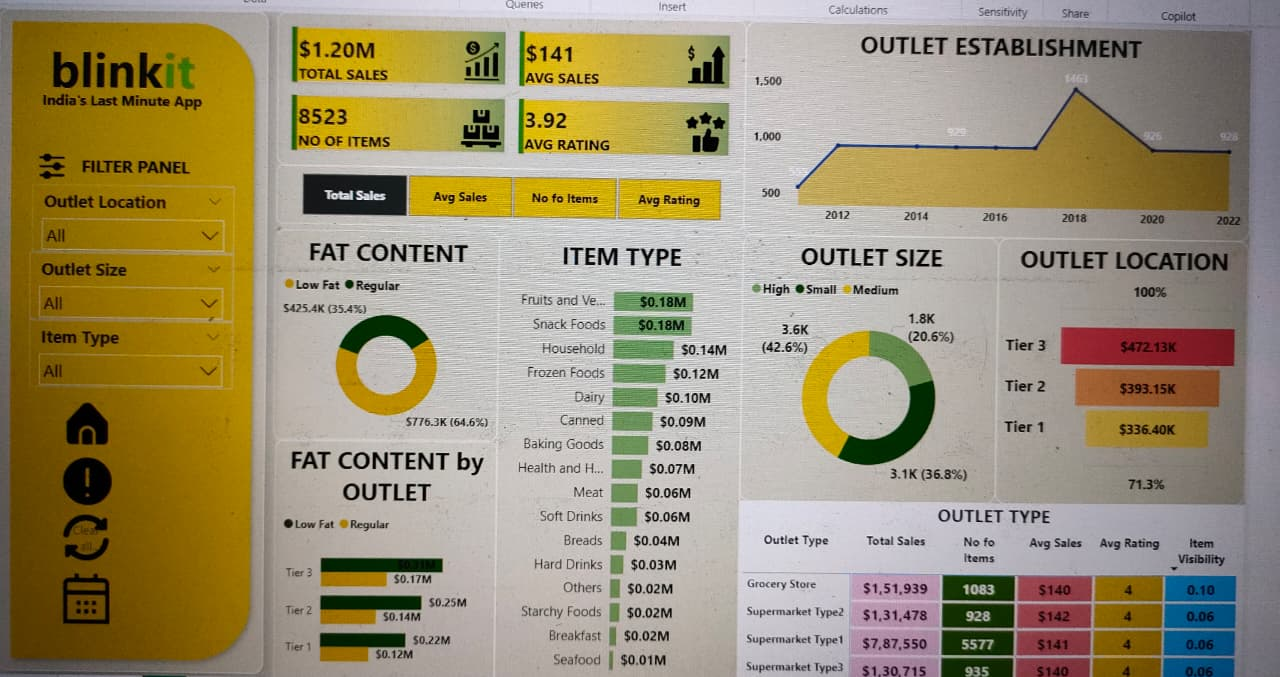

Layout of this report page (visuals, bound fields, positions):
{"tool":"powerbi","page":{"name":"Page 1","canvas":[1400,750],"ordinal":0},"visuals":[{"type":"donutChart","title":"OUTLET SIZE","fields":{"Category":["BlinkIT Grocery Data.Outlet Size"],"Y":["CountNonNull(BlinkIT Grocery Data.Outlet Type)"]},"box":[826.2,239.3,287.9,299.1],"z":0},{"type":"lineChart","title":"OUTLET ESTABLISHMENT","fields":{"Category":["BlinkIT Grocery Data.Outlet Establishment Year"],"Y":["CountNonNull(BlinkIT Grocery Data.Outlet Type)"]},"box":[826.5,0,573.5,239.4],"z":1000},{"type":"donutChart","title":"FAT CONTENT","fields":{"Y":["BlinkIT Grocery Data.Total Sales"],"Category":["BlinkIT Grocery Data.Item Fat Content"]},"box":[306.7,240.2,248,235.3],"z":2000},{"type":"clusteredBarChart","title":"FAT CONTENT by OUTLET","fields":{"Y":["BlinkIT Grocery Data.Total Sales"],"Category":["BlinkIT Grocery Data.Outlet Location Type"],"Series":["BlinkIT Grocery Data.Item Fat Content"]},"box":[308.6,472.7,245.4,277],"z":3000},{"type":"clusteredBarChart","title":"ITEM TYPE","fields":{"Y":["BlinkIT Grocery Data.Total Sales"],"Category":["BlinkIT Grocery Data.Item Type"]},"box":[554,240.9,272.5,508.8],"z":4000},{"type":"shape","box":[0,0,296.6,736.1],"z":5000},{"type":"textbox","box":[21.1,84.3,230.3,36.1],"z":6000},{"type":"slicer","fields":{"Values":["Metrics.Metrics"]},"box":[307.1,168.6,519.4,64.7],"z":7000},{"type":"cardVisual","fields":{"Data":["BlinkIT Grocery Data.Total Sales","BlinkIT Grocery Data.Avg Sales","BlinkIT Grocery Data.No fo Items","BlinkIT Grocery Data.Avg Rating"]},"box":[307.1,0,519.4,168.6],"z":8000},{"type":"funnel","title":"OUTLET LOCATION","fields":{"Y":["Sum(BlinkIT Grocery Data.Sales)"],"Category":["BlinkIT Grocery Data.Outlet Location Type"]},"box":[1114,239.3,286,299.1],"z":9000},{"type":"pivotTable","title":"OUTLET TYPE","fields":{"Rows":["BlinkIT Grocery Data.Outlet Type"],"Values":["BlinkIT Grocery Data.Total Sales","BlinkIT Grocery Data.No fo Items","BlinkIT Grocery Data.Avg Sales","BlinkIT Grocery Data.Avg Rating","Avg(BlinkIT Grocery Data.Item Visibility)"]},"box":[826.5,537.4,573.5,212.3],"z":10000},{"type":"slicer","fields":{"Values":["BlinkIT Grocery Data.Outlet Location Type"]},"box":[37.3,194.1,223.5,74.5],"z":11000},{"type":"slicer","fields":{"Values":["BlinkIT Grocery Data.Outlet Size"]},"box":[35.3,268.6,225.5,74.5],"z":12000},{"type":"slicer","fields":{"Values":["BlinkIT Grocery Data.Item Type"]},"box":[35.3,343.1,225.5,74.5],"z":13000},{"type":"textbox","box":[22.6,24.1,261.9,85.8],"z":14000},{"type":"image","box":[36.1,155.1,46.7,37.6],"z":15000},{"type":"textbox","box":[82.8,155.1,156.6,36.1],"z":16000},{"type":"actionButton","box":[74.3,431.4,58.6,54.3],"z":17000},{"type":"actionButton","box":[74.3,560,51.4,51.4],"z":18000},{"type":"actionButton","box":[74.3,625.7,51.4,55.7],"z":19000},{"type":"actionButton","box":[74.3,495.7,54.3,52.9],"z":20000}]}

Visuals, with their boxes on the page's 1400x750 design canvas (x1, y1, x2, y2). These are canvas units, not pixel positions in the 1280x677 screenshot, which may show the page scaled, cropped or inside an application window:
"OUTLET SIZE" donutChart: bbox(826, 239, 1114, 538)
"OUTLET ESTABLISHMENT" lineChart: bbox(826, 0, 1400, 239)
"FAT CONTENT" donutChart: bbox(307, 240, 555, 476)
"FAT CONTENT by OUTLET" clusteredBarChart: bbox(309, 473, 554, 750)
"ITEM TYPE" clusteredBarChart: bbox(554, 241, 826, 750)
shape: bbox(0, 0, 297, 736)
textbox: bbox(21, 84, 251, 120)
slicer - Metrics.Metrics: bbox(307, 169, 826, 233)
cardVisual - BlinkIT Grocery Data.Total Sales x BlinkIT Grocery Data.Avg Sales: bbox(307, 0, 826, 169)
"OUTLET LOCATION" funnel: bbox(1114, 239, 1400, 538)
"OUTLET TYPE" pivotTable: bbox(826, 537, 1400, 750)
slicer - BlinkIT Grocery Data.Outlet Location Type: bbox(37, 194, 261, 269)
slicer - BlinkIT Grocery Data.Outlet Size: bbox(35, 269, 261, 343)
slicer - BlinkIT Grocery Data.Item Type: bbox(35, 343, 261, 418)
textbox: bbox(23, 24, 284, 110)
image: bbox(36, 155, 83, 193)
textbox: bbox(83, 155, 239, 191)
actionButton: bbox(74, 431, 133, 486)
actionButton: bbox(74, 560, 126, 611)
actionButton: bbox(74, 626, 126, 681)
actionButton: bbox(74, 496, 129, 549)
